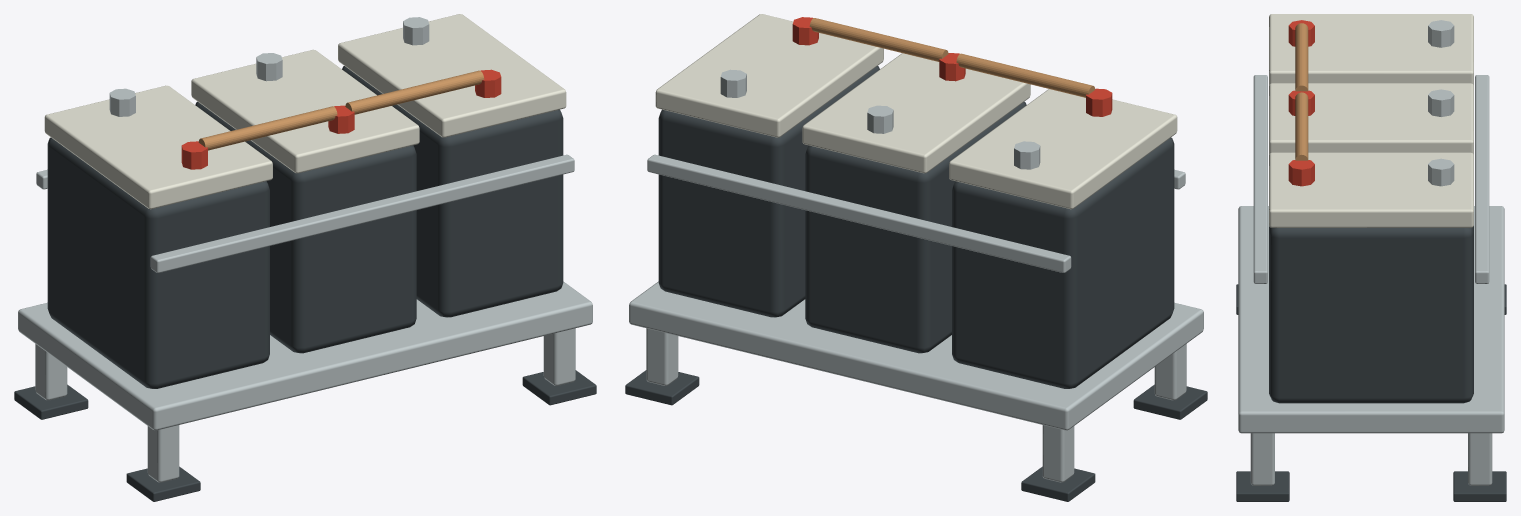
Rendered from broadcast-tower-and-relay-station-broadcast-tower-and--73ef2672__30274.glb.
3 renders of one model, left to right at view 1: azimuth 30°, elevation 25°; view 2: azimuth 150°, elevation 25°; view 3: azimuth 270°, elevation 25°, orthographic. The views are drawn at different scales.
Parts seen in each view (by area): view 1: broadcast-tower-and-relay-station-battery-bank; view 2: broadcast-tower-and-relay-station-battery-bank; view 3: broadcast-tower-and-relay-station-battery-bank.
Part boxes in pixels (x1,y1,x2,y2): broadcast-tower-and-relay-station-battery-bank: (14, 14, 596, 501); broadcast-tower-and-relay-station-battery-bank: (625, 14, 1207, 501); broadcast-tower-and-relay-station-battery-bank: (1236, 14, 1506, 501).
Size of the model in its own units: 1.21 by 0.831 by 0.66.
